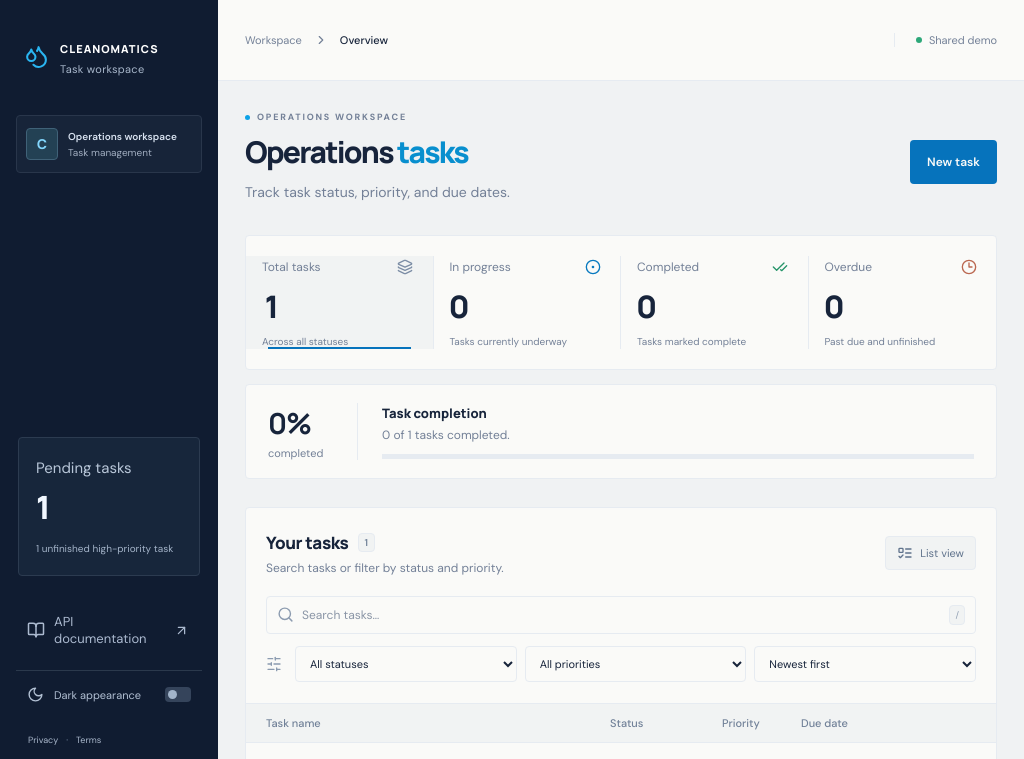
Test: workspace journeys › validates and creates, with success feedback
Click the button "New task" at point(954, 162), box [910, 140, 997, 184]
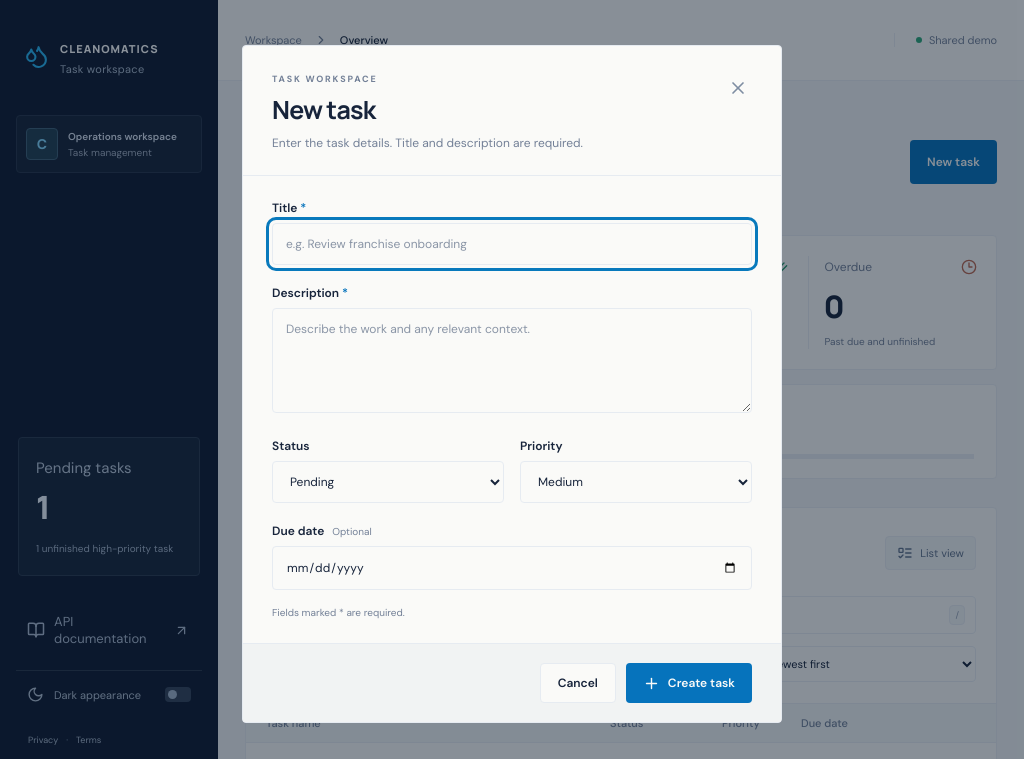
Click the button "Create task" at point(689, 683), box [626, 663, 752, 703]
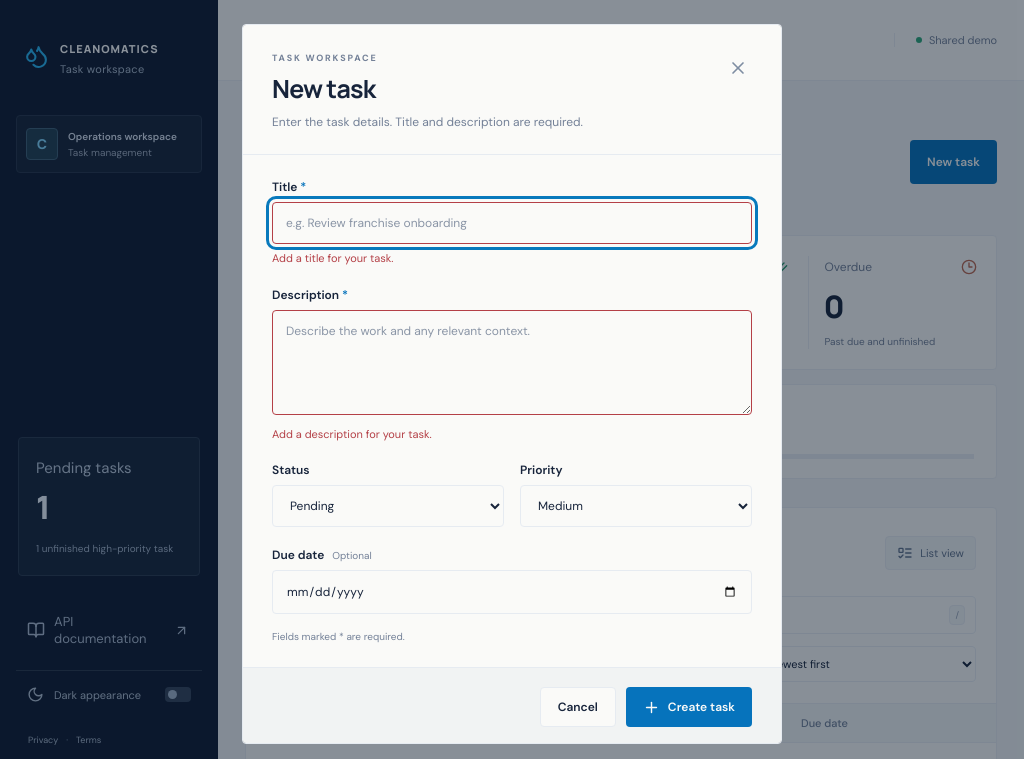
Check: the text "Add a title for your task." is shown, box [272, 251, 394, 265]
Type "New delivery" into the field labelled "Title" at point(512, 223), box [272, 202, 752, 244]
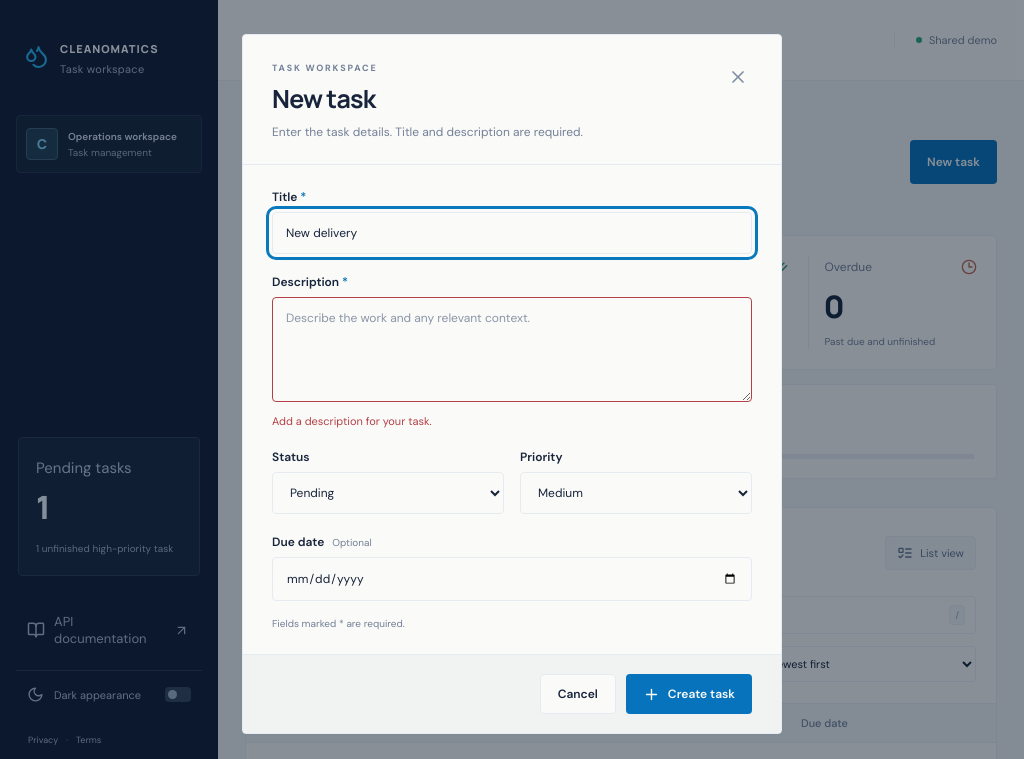
Type "Check everything" into the text box labelled "Description" at point(512, 349), box [272, 297, 752, 402]
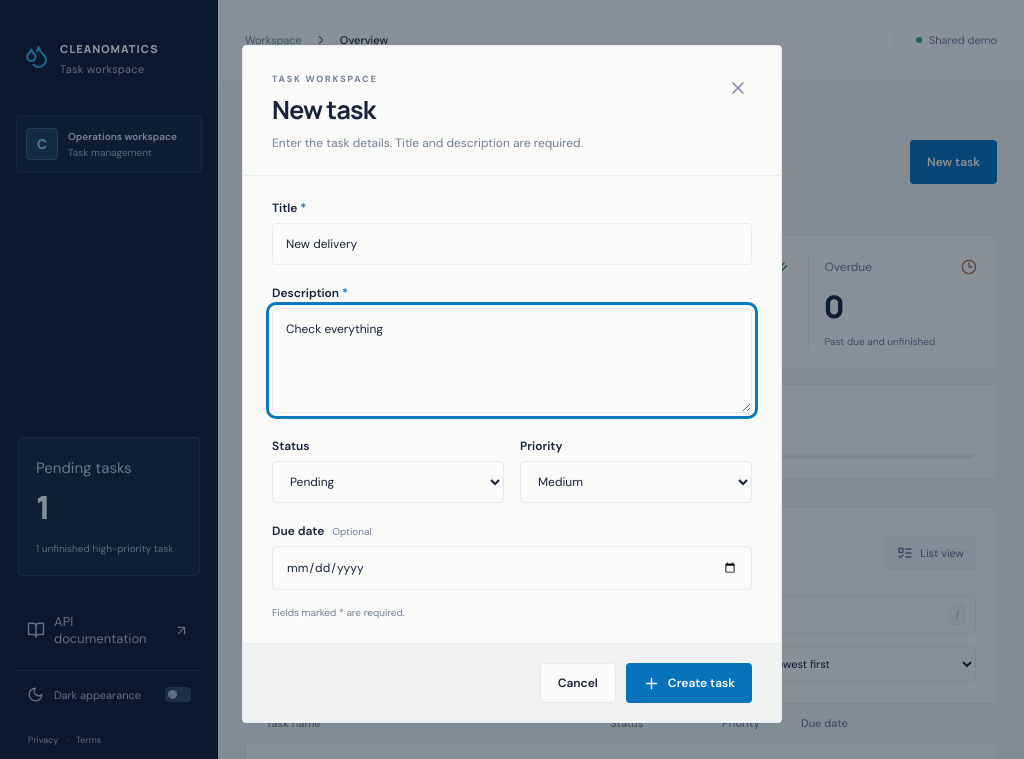
Click the button "Create task" at point(689, 683), box [626, 663, 752, 703]
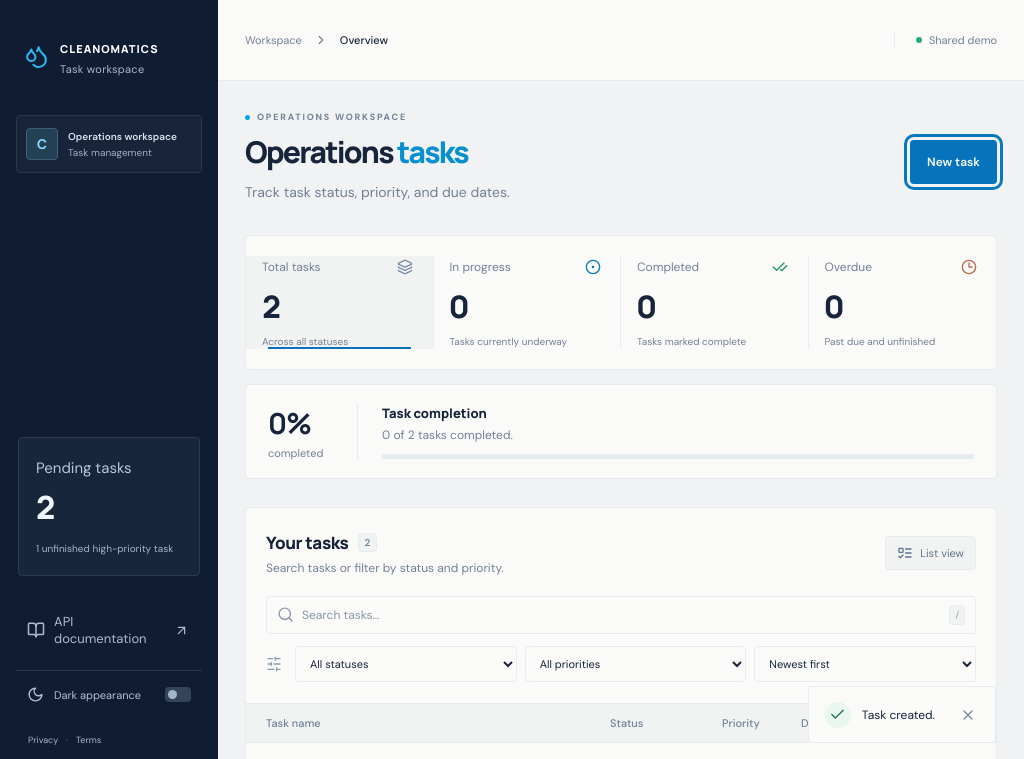
Check: the text "Task created." is shown, box [808, 686, 996, 743]
